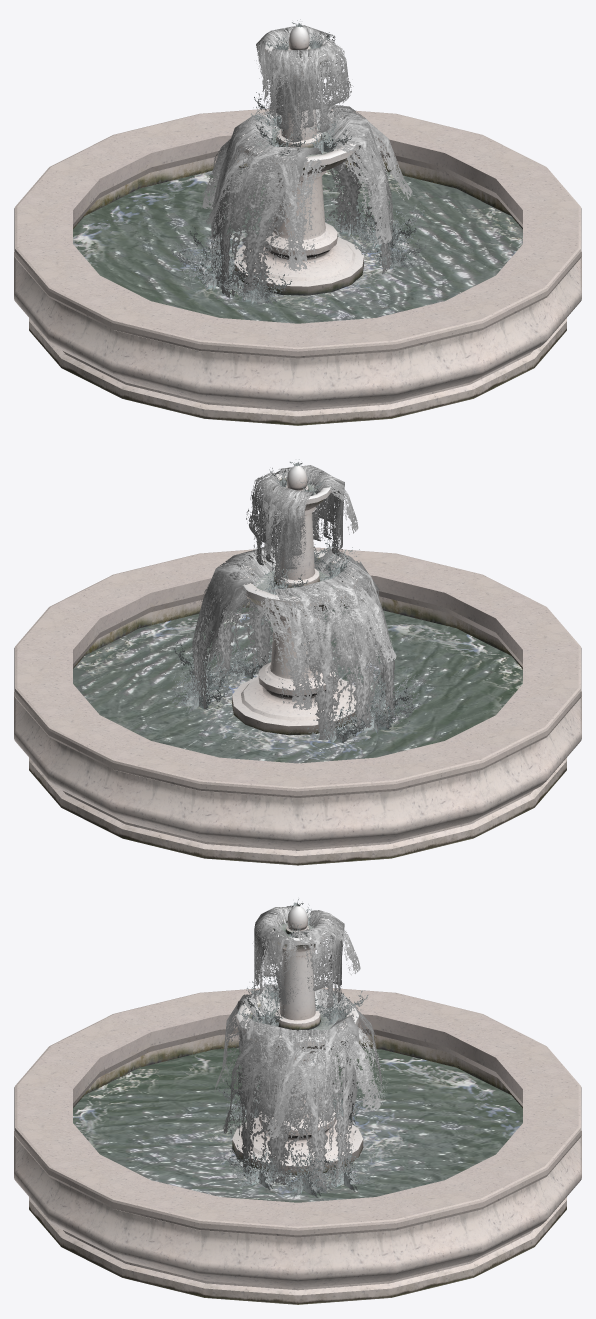
Rendered from prop_fountain.fbx.
3 views of the same model, one above another, from view 1: azimuth 30°, elevation 25°; view 2: azimuth 150°, elevation 25°; view 3: azimuth 270°, elevation 25° (orthographic).
Parts seen in each view (by area): view 1: Object002, Object006, Object005, Plane001, Plane009, Plane007, Object004, Plane008, Plane006, Plane010, Object007, Plane005 (+1 smaller); view 2: Object002, Plane001, Plane009, Plane005, Plane007, Plane010, Object003, Object008, Plane006, Plane008; view 3: Object002, Object004, Object003, Object005, Plane007, Object009, Plane006, Plane005, Object006, Plane014, Plane013.
Part boxes in pixels (bbox=[...]): Object002: bbox=[14, 25, 581, 425]; Object006: bbox=[249, 151, 345, 271]; Object005: bbox=[332, 135, 393, 244]; Plane001: bbox=[199, 138, 265, 227]; Plane009: bbox=[171, 243, 247, 296]; Plane007: bbox=[351, 202, 424, 250]; Object004: bbox=[342, 116, 412, 200]; Plane008: bbox=[218, 265, 292, 305]; Plane006: bbox=[354, 228, 426, 269]; Plane010: bbox=[176, 226, 242, 270]; Object007: bbox=[259, 49, 290, 115]; Plane005: bbox=[324, 196, 374, 237]; Object002: bbox=[14, 465, 581, 865]; Plane001: bbox=[250, 585, 396, 710]; Plane009: bbox=[342, 678, 421, 737]; Plane005: bbox=[168, 663, 235, 715]; Plane007: bbox=[172, 640, 251, 693]; Plane010: bbox=[306, 706, 370, 744]; Object003: bbox=[208, 569, 249, 663]; Object008: bbox=[252, 487, 290, 554]; Plane006: bbox=[214, 636, 272, 684]; Plane008: bbox=[366, 667, 422, 710]; Object002: bbox=[14, 905, 581, 1304]; Object004: bbox=[261, 1047, 340, 1138]; Object003: bbox=[322, 1025, 387, 1112]; Object005: bbox=[223, 1025, 284, 1134]; Plane007: bbox=[258, 1139, 335, 1201]; Object009: bbox=[262, 930, 299, 1004]; Plane006: bbox=[223, 1142, 287, 1189]; Plane005: bbox=[308, 1141, 373, 1193]; Object006: bbox=[214, 993, 259, 1092]; Plane014: bbox=[314, 990, 368, 1026]; Plane013: bbox=[237, 990, 287, 1026].
Size of the model in its own units: 682 by 381 by 672.
5 materials, 5 textured.
